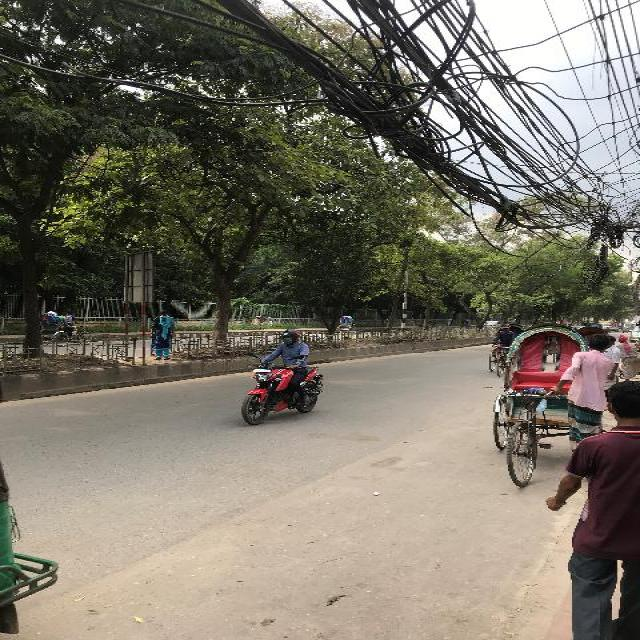bike: (239, 329, 326, 428)
vehicle: (488, 323, 586, 486), (488, 324, 525, 379), (40, 311, 93, 347), (337, 316, 357, 334)
